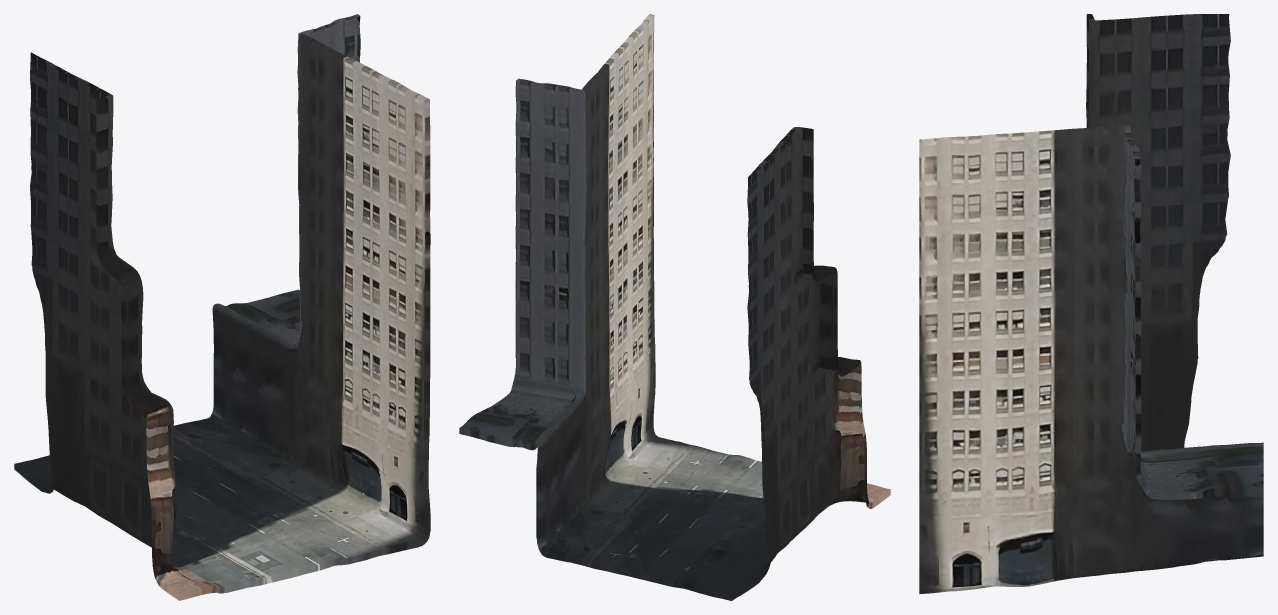
The model's file is z20-167763-405237-h0-yup-uvflip-v3-world.glb.
The picture shows the model from 3 angles, left to right: view 1: azimuth 30°, elevation 25°; view 2: azimuth 150°, elevation 25°; view 3: azimuth 270°, elevation 25°; orthographic projection. The views are drawn at different scales.
Bounding box in the file's own units: 30.16 × 45.08 × 30.32.
Materials: 1 (1 with a texture image).
